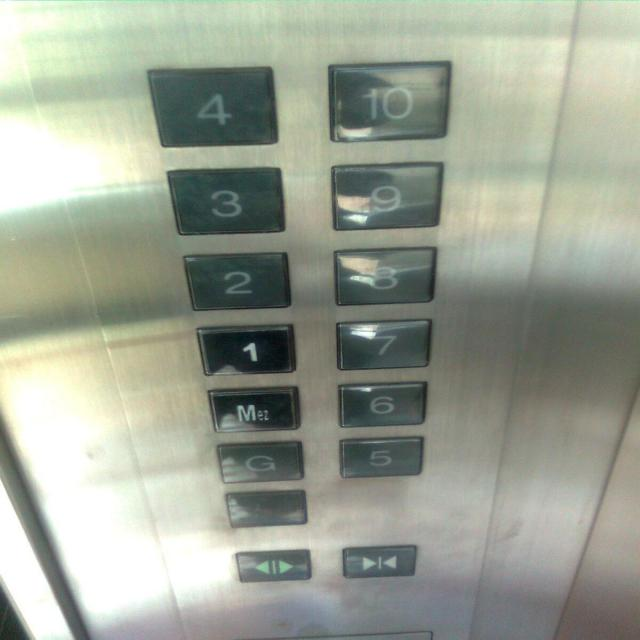1: (192, 322, 300, 377)
10: (323, 58, 457, 144)
2: (181, 248, 291, 314)
3: (165, 162, 287, 238)
4: (144, 61, 282, 149)
5: (336, 434, 426, 481)
6: (336, 379, 430, 429)
7: (331, 314, 435, 372)
8: (328, 242, 442, 309)
9: (328, 158, 446, 235)
G: (214, 440, 308, 485)
close: (338, 542, 418, 580)
empty: (224, 487, 307, 532)
open: (229, 546, 315, 586)
text_Mez: (204, 382, 302, 436)
